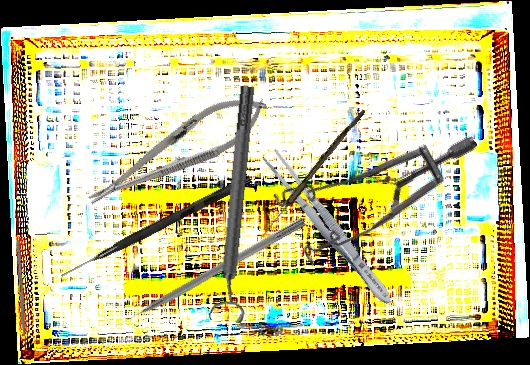Dressing Forceps: (259, 145, 399, 311)
Fixation Ring: (204, 84, 270, 324)
Hook Surgical: (59, 172, 253, 283)
Needle Holder: (77, 80, 277, 222)
Pusher: (111, 215, 307, 331), (15, 240, 29, 360)
Speculum: (251, 61, 481, 304)
Surgical Spoon: (258, 106, 366, 242)
